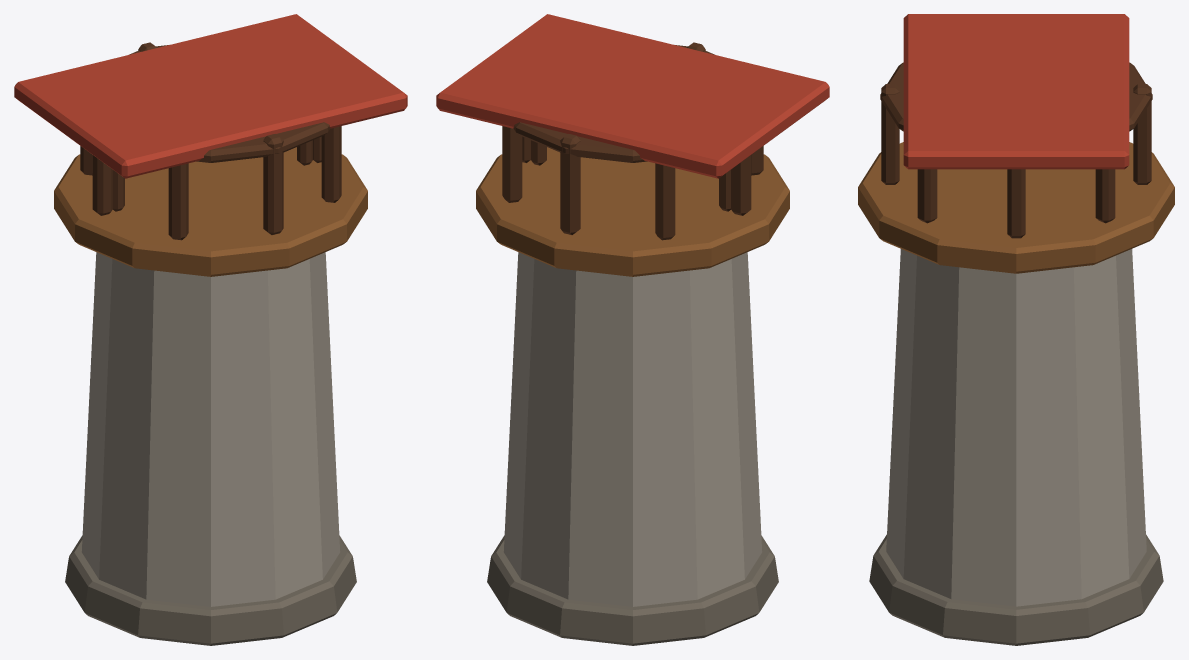
File: tower_archer_1.glb
3 renders of one model, left to right at view 1: azimuth 30°, elevation 25°; view 2: azimuth 150°, elevation 25°; view 3: azimuth 270°, elevation 25°, orthographic.
Visible parts, largest first — view 1: SM_Tower_Archer_t1; view 2: SM_Tower_Archer_t1; view 3: SM_Tower_Archer_t1.
Boxes of the visible parts, x1=… form: SM_Tower_Archer_t1: x1=14, y1=14, x2=407, y2=645; SM_Tower_Archer_t1: x1=436, y1=14, x2=829, y2=645; SM_Tower_Archer_t1: x1=858, y1=14, x2=1174, y2=645.
Bounding box in the file's own units: 1.86 × 3.1 × 1.77.
